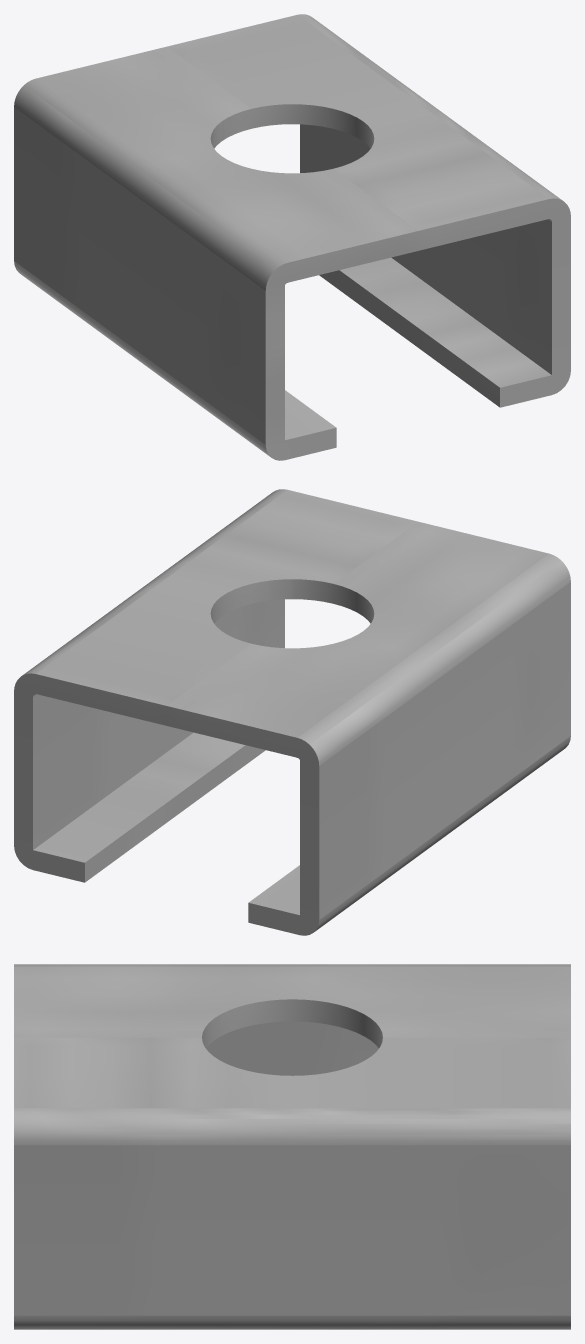
The picture shows the model from 3 angles, top to bottom: view 1: azimuth 30°, elevation 25°; view 2: azimuth 150°, elevation 25°; view 3: azimuth 270°, elevation 25°; orthographic projection. The views are drawn at different scales.
Visible parts, largest first — view 1: 27_18_ K; view 2: 27_18_ K; view 3: 27_18_ K.
Boxes of the visible parts, x1,y1,x2,y2 form: 27_18_ K: [14, 14, 570, 460]; 27_18_ K: [14, 489, 570, 935]; 27_18_ K: [14, 964, 570, 1329].
Size of the model in its own units: 28 by 17.25 by 40.
Materials: 2 (1 with a texture image).
